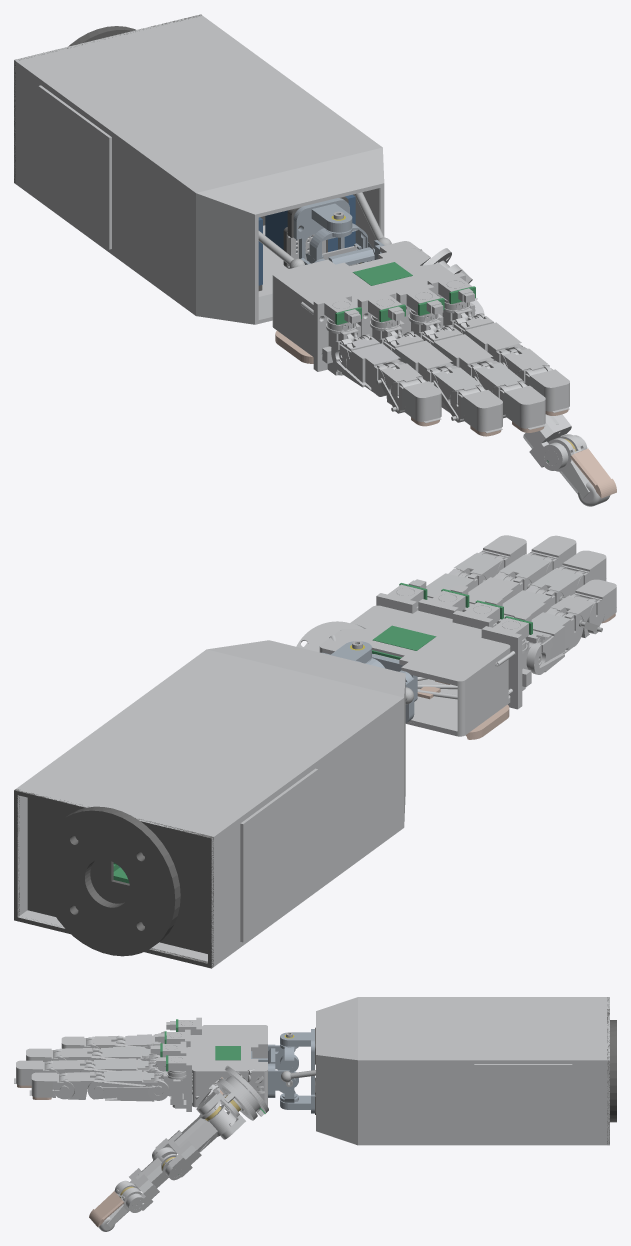
File: hand_v21.glb
3 renders of one model, top to bottom at view 1: azimuth 30°, elevation 25°; view 2: azimuth 150°, elevation 25°; view 3: azimuth 270°, elevation 25°, orthographic. The views are drawn at different scales.
Visible parts, largest first — view 1: forearm_shell_back, forearm_cover_front, forearm_side_cover_L, palm_v21, little_proximal, forearm_yoke_w13, middle_proximal, ring_distal, ring_proximal, middle_distal, little_distal, index_proximal (+18 smaller); view 2: forearm_shell_back, arm_flange, palm_v21, forearm_cover_front, forearm_side_cover_L, forearm_frame, little_proximal, little_knuckle_module, palm_dorsal_cover, little_distal, ring_proximal, middle_proximal (+14 smaller); view 3: forearm_shell_back, forearm_cover_front, forearm_side_cover_R, palm_v21, thumb_metacarpal, index_proximal, thumb_proximal, thumb_mount, forearm_yoke_w13, palm_yoke_w13, index_distal, arm_flange (+18 smaller).
Boxes of the visible parts, x1,y1,x2,y2 form: forearm_shell_back: [14, 14, 384, 269]; forearm_cover_front: [14, 122, 380, 324]; forearm_side_cover_L: [38, 85, 111, 249]; palm_v21: [272, 241, 453, 356]; little_proximal: [331, 334, 405, 396]; forearm_yoke_w13: [293, 198, 352, 259]; middle_proximal: [416, 325, 498, 380]; ring_distal: [450, 385, 502, 431]; ring_proximal: [377, 331, 458, 385]; middle_distal: [492, 380, 545, 428]; little_distal: [391, 376, 441, 421]; index_proximal: [445, 313, 527, 367]; forearm_shell_back: [15, 640, 405, 903]; arm_flange: [14, 789, 213, 968]; palm_v21: [319, 605, 510, 736]; forearm_cover_front: [17, 737, 405, 967]; forearm_side_cover_L: [240, 768, 318, 942]; forearm_frame: [27, 797, 207, 953]; little_proximal: [525, 608, 583, 674]; little_knuckle_module: [481, 618, 528, 709]; palm_dorsal_cover: [354, 618, 453, 659]; little_distal: [568, 579, 616, 634]; ring_proximal: [496, 585, 563, 623]; middle_proximal: [462, 572, 530, 611]; forearm_shell_back: [316, 997, 609, 1102]; forearm_cover_front: [316, 1093, 609, 1145]; forearm_side_cover_R: [474, 1064, 572, 1142]; palm_v21: [186, 1025, 267, 1107]; thumb_metacarpal: [152, 1101, 236, 1180]; index_proximal: [87, 1067, 169, 1101]; thumb_proximal: [114, 1147, 177, 1212]; thumb_mount: [216, 1067, 268, 1120]; forearm_yoke_w13: [280, 1029, 314, 1113]; palm_yoke_w13: [251, 1044, 295, 1097]; index_distal: [31, 1072, 74, 1099]; arm_flange: [607, 997, 616, 1143].
Bounding box in the file's own units: 133 × 127 × 424.
